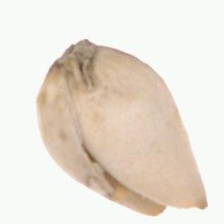L1: (45, 38, 104, 90), (117, 185, 211, 217)
L2: (36, 38, 210, 217)
